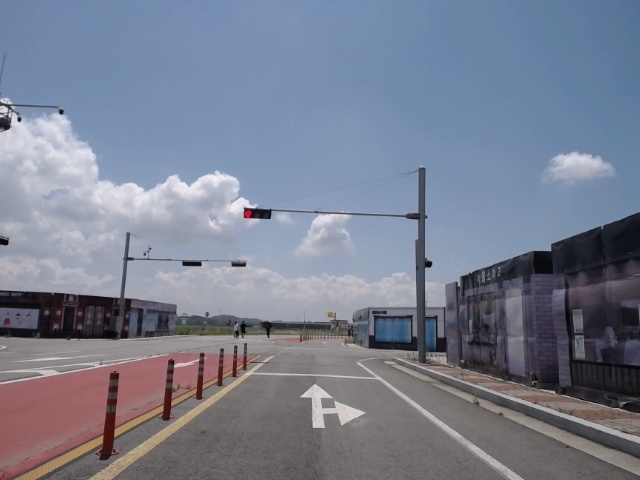red_3: (243, 206, 273, 220)
